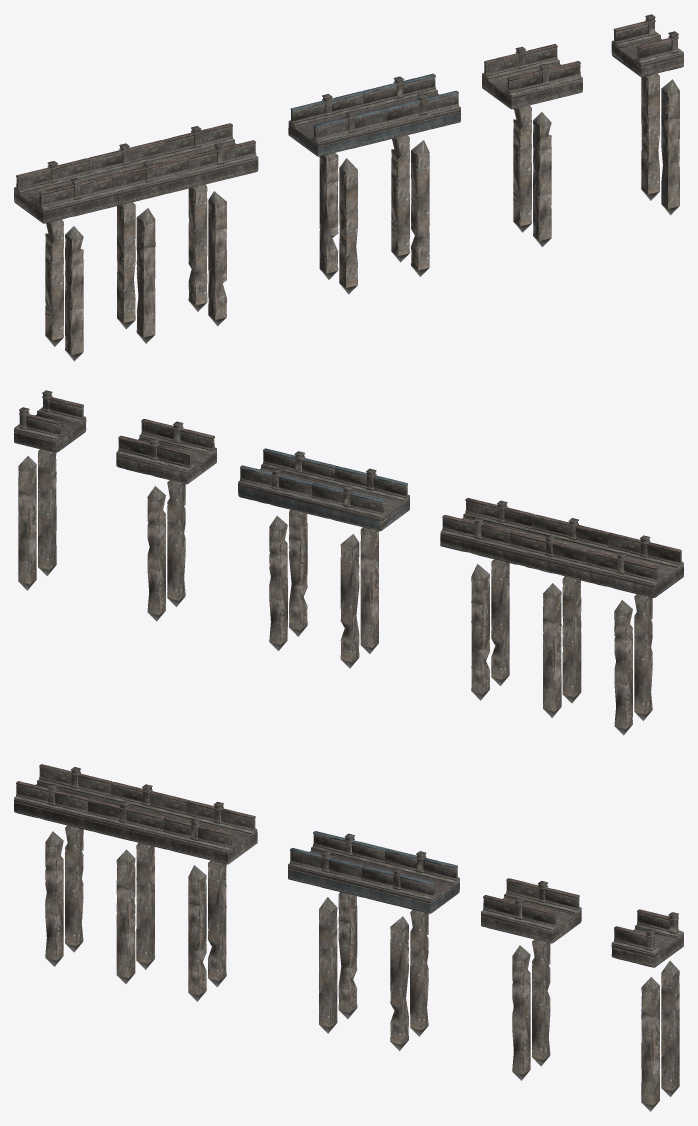
The model's file is cargo_ruin_bridge.glb.
3 renders of one model, top to bottom at view 1: azimuth 30°, elevation 25°; view 2: azimuth 150°, elevation 25°; view 3: azimuth 330°, elevation 25°, orthographic.
Parts seen in each view (by area): view 1: KB3D_SOL_Reusable_BridgeStraightTop_A_Long, KB3D_SOL_Reusable_BridgeStraightTop_A_Medium, KB3D_SOL_Reusable_BridgeStraightTop_A_Short, KB3D_SOL_Reusable_BridgeStraightTop_A_End, KB3D_SOL_Reusable_BridgeStraightColumn_B_Long.003, KB3D_SOL_Reusable_BridgeStraightColumn_A_Long.002, KB3D_SOL_Reusable_BridgeStraightColumn_B_Long.004, KB3D_SOL_Reusable_BridgeStraightColumn_C_Long.001, KB3D_SOL_Reusable_BridgeStraightColumn_B_Long.001, KB3D_SOL_Reusable_BridgeStraightColumn_C_Long.004, KB3D_SOL_Reusable_BridgeStraightColumn_A_Long.001, KB3D_SOL_Reusable_BridgeStraightColumn_A_Long (+6 smaller); view 2: KB3D_SOL_Reusable_BridgeStraightTop_A_Long, KB3D_SOL_Reusable_BridgeStraightTop_A_Medium, KB3D_SOL_Reusable_BridgeStraightTop_A_Short, KB3D_SOL_Reusable_BridgeStraightTop_A_End, KB3D_SOL_Reusable_BridgeStraightColumn_B_Long.002, KB3D_SOL_Reusable_BridgeStraightColumn_B_Long, KB3D_SOL_Reusable_BridgeStraightColumn_A_Long, KB3D_SOL_Reusable_BridgeStraightColumn_B_Long.003, KB3D_SOL_Reusable_BridgeStraightColumn_C_Long.002, KB3D_SOL_Reusable_BridgeStraightColumn_A_Long.003, KB3D_SOL_Reusable_BridgeStraightColumn_C_Long, KB3D_SOL_Reusable_BridgeStraightColumn_C_Long.003 (+6 smaller); view 3: KB3D_SOL_Reusable_BridgeStraightTop_A_Long, KB3D_SOL_Reusable_BridgeStraightTop_A_Medium, KB3D_SOL_Reusable_BridgeStraightTop_A_Short, KB3D_SOL_Reusable_BridgeStraightTop_A_End, KB3D_SOL_Reusable_BridgeStraightColumn_B_Long.003, KB3D_SOL_Reusable_BridgeStraightColumn_B_Long, KB3D_SOL_Reusable_BridgeStraightColumn_B_Long.004, KB3D_SOL_Reusable_BridgeStraightColumn_B_Long.001, KB3D_SOL_Reusable_BridgeStraightColumn_A_Long.001, KB3D_SOL_Reusable_BridgeStraightColumn_C_Long.004, KB3D_SOL_Reusable_BridgeStraightColumn_C_Long.001, KB3D_SOL_Reusable_BridgeStraightColumn_B_Long.002 (+6 smaller).
Part boxes in pixels (box(x1,y1,x2,y2)): KB3D_SOL_Reusable_BridgeStraightTop_A_Long: box(14, 123, 258, 223); KB3D_SOL_Reusable_BridgeStraightTop_A_Medium: box(288, 73, 460, 156); KB3D_SOL_Reusable_BridgeStraightTop_A_Short: box(482, 44, 582, 109); KB3D_SOL_Reusable_BridgeStraightTop_A_End: box(611, 14, 683, 76); KB3D_SOL_Reusable_BridgeStraightColumn_B_Long.003: box(136, 208, 155, 343); KB3D_SOL_Reusable_BridgeStraightColumn_A_Long.002: box(411, 140, 429, 276); KB3D_SOL_Reusable_BridgeStraightColumn_B_Long.004: box(339, 158, 357, 294); KB3D_SOL_Reusable_BridgeStraightColumn_C_Long.001: box(65, 226, 83, 361); KB3D_SOL_Reusable_BridgeStraightColumn_B_Long.001: box(661, 79, 679, 215); KB3D_SOL_Reusable_BridgeStraightColumn_C_Long.004: box(533, 112, 551, 246); KB3D_SOL_Reusable_BridgeStraightColumn_A_Long.001: box(208, 191, 226, 326); KB3D_SOL_Reusable_BridgeStraightColumn_A_Long: box(188, 184, 207, 311); KB3D_SOL_Reusable_BridgeStraightTop_A_Long: box(440, 498, 683, 597); KB3D_SOL_Reusable_BridgeStraightTop_A_Medium: box(238, 448, 409, 531); KB3D_SOL_Reusable_BridgeStraightTop_A_Short: box(116, 419, 216, 484); KB3D_SOL_Reusable_BridgeStraightTop_A_End: box(14, 390, 86, 452); KB3D_SOL_Reusable_BridgeStraightColumn_B_Long.002: box(543, 583, 561, 717); KB3D_SOL_Reusable_BridgeStraightColumn_B_Long: box(18, 456, 36, 590); KB3D_SOL_Reusable_BridgeStraightColumn_A_Long: box(471, 564, 489, 700); KB3D_SOL_Reusable_BridgeStraightColumn_B_Long.003: box(562, 576, 581, 703); KB3D_SOL_Reusable_BridgeStraightColumn_C_Long.002: box(269, 516, 287, 650); KB3D_SOL_Reusable_BridgeStraightColumn_A_Long.003: box(340, 534, 359, 668); KB3D_SOL_Reusable_BridgeStraightColumn_C_Long: box(614, 600, 632, 735); KB3D_SOL_Reusable_BridgeStraightColumn_C_Long.003: box(147, 486, 165, 621); KB3D_SOL_Reusable_BridgeStraightTop_A_Long: box(14, 764, 257, 864); KB3D_SOL_Reusable_BridgeStraightTop_A_Medium: box(288, 831, 459, 913); KB3D_SOL_Reusable_BridgeStraightTop_A_Short: box(481, 878, 581, 943); KB3D_SOL_Reusable_BridgeStraightTop_A_End: box(611, 909, 683, 967); KB3D_SOL_Reusable_BridgeStraightColumn_B_Long.003: box(116, 849, 135, 983); KB3D_SOL_Reusable_BridgeStraightColumn_B_Long: box(661, 961, 679, 1096); KB3D_SOL_Reusable_BridgeStraightColumn_B_Long.004: box(319, 897, 337, 1033); KB3D_SOL_Reusable_BridgeStraightColumn_B_Long.001: box(641, 977, 659, 1111); KB3D_SOL_Reusable_BridgeStraightColumn_A_Long.001: box(188, 865, 206, 1001); KB3D_SOL_Reusable_BridgeStraightColumn_C_Long.004: box(512, 945, 530, 1080); KB3D_SOL_Reusable_BridgeStraightColumn_C_Long.001: box(45, 831, 63, 966); KB3D_SOL_Reusable_BridgeStraightColumn_B_Long.002: box(136, 843, 154, 969).
Bounding box in the file's own units: 12 × 3.27 × 0.9892.
7 materials, 7 textured.
